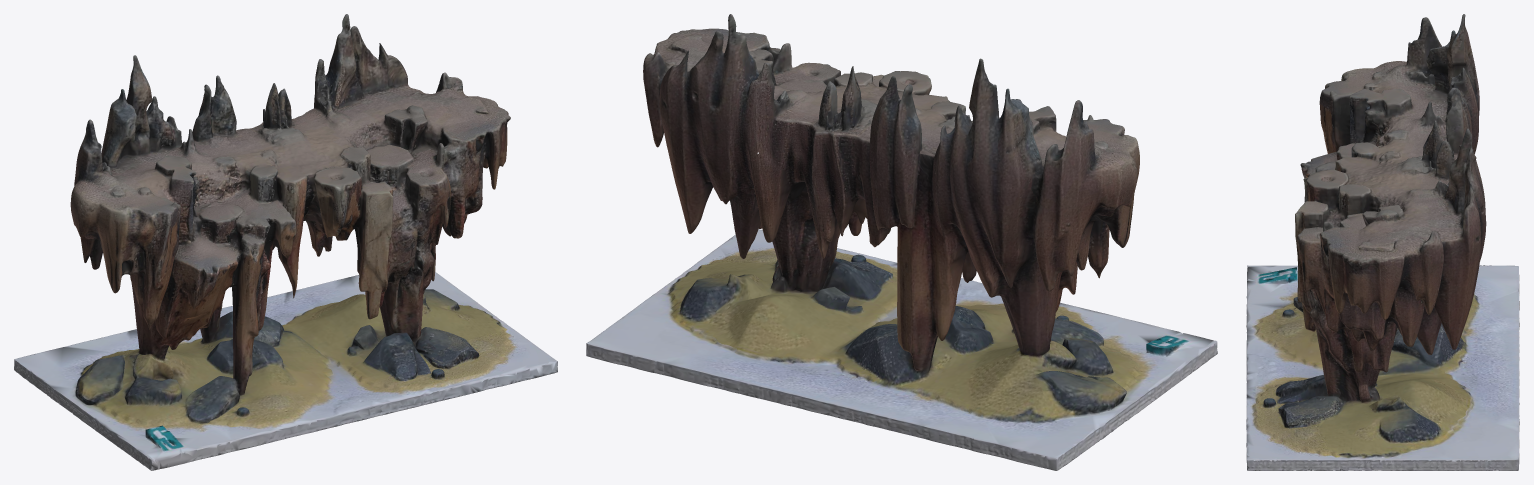
File: daobay2-v4.glb
3 renders of one model, left to right at view 1: azimuth 30°, elevation 25°; view 2: azimuth 150°, elevation 25°; view 3: azimuth 270°, elevation 25°, orthographic. The views are drawn at different scales.
Parts seen in each view (by area): view 1: tripo_node_e49734cd-498e-4eca-8447-2115930e3f3c; view 2: tripo_node_e49734cd-498e-4eca-8447-2115930e3f3c; view 3: tripo_node_e49734cd-498e-4eca-8447-2115930e3f3c.
Boxes of the visible parts, bbox=[...] form: tripo_node_e49734cd-498e-4eca-8447-2115930e3f3c: bbox=[14, 14, 557, 470]; tripo_node_e49734cd-498e-4eca-8447-2115930e3f3c: bbox=[586, 14, 1217, 470]; tripo_node_e49734cd-498e-4eca-8447-2115930e3f3c: bbox=[1246, 14, 1519, 470].
Bounding box in the file's own units: 0.9993 × 0.7183 × 0.5796.
Materials: 1 (1 with a texture image).
